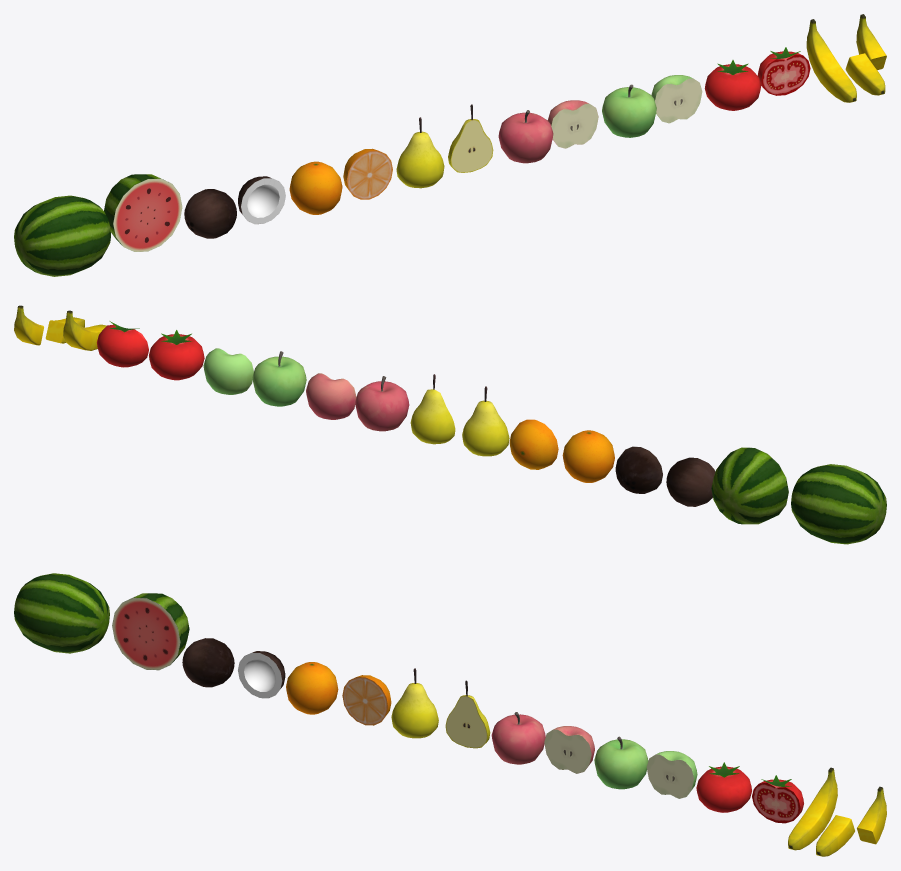
The model's file is Fruits.glb.
3 renders of one model, top to bottom at view 1: azimuth 30°, elevation 25°; view 2: azimuth 150°, elevation 25°; view 3: azimuth 330°, elevation 25°, orthographic.
Parts seen in each view (by area): view 1: Watermelon, WatermelonSlice, RedApple, GreenApple, Orange, Tomato, Coconut, Pear, OrangeSlice, GreenAppleSlice, RedAppleSlice, TomatoSlice (+5 smaller); view 2: Watermelon, WatermelonSlice, RedApple, GreenApple, Orange, Tomato, Pear, OrangeSlice, Coconut, RedAppleSlice, GreenAppleSlice, PearSlice (+4 smaller); view 3: Watermelon, WatermelonSlice, RedApple, GreenApple, Orange, Tomato, Coconut, Pear, OrangeSlice, GreenAppleSlice, RedAppleSlice, TomatoSlice (+5 smaller).
Boxes of the visible parts, box(x1,y1,x2,y2) form: Watermelon: box(14, 195, 110, 276); WatermelonSlice: box(104, 174, 182, 251); RedApple: box(498, 110, 553, 163); GreenApple: box(602, 84, 656, 137); Orange: box(289, 161, 342, 214); Tomato: box(704, 60, 761, 110); Coconut: box(184, 189, 236, 238); Pear: box(396, 117, 444, 188); OrangeSlice: box(343, 148, 392, 199); GreenAppleSlice: box(651, 75, 702, 123); RedAppleSlice: box(547, 100, 598, 148); TomatoSlice: box(757, 47, 810, 95); Watermelon: box(791, 464, 886, 544); WatermelonSlice: box(711, 447, 788, 524); RedApple: box(355, 376, 409, 431); GreenApple: box(252, 351, 306, 406); Orange: box(562, 430, 614, 482); Tomato: box(149, 330, 204, 380); Pear: box(462, 386, 509, 456); OrangeSlice: box(509, 419, 558, 469); Coconut: box(666, 457, 715, 506); RedAppleSlice: box(306, 373, 356, 419); GreenAppleSlice: box(203, 348, 253, 394); PearSlice: box(410, 374, 455, 444); Watermelon: box(14, 573, 109, 653); WatermelonSlice: box(112, 593, 189, 670); RedApple: box(491, 712, 545, 764); GreenApple: box(594, 736, 648, 789); Orange: box(286, 662, 338, 714); Tomato: box(696, 762, 751, 812); Coconut: box(182, 638, 234, 687); Pear: box(391, 668, 438, 738); OrangeSlice: box(342, 675, 391, 725); GreenAppleSlice: box(646, 751, 697, 798); RedAppleSlice: box(544, 726, 594, 773); TomatoSlice: box(752, 775, 803, 823).
Bounding box in the file's own units: 23.4 × 1.92 × 2.45.
15 materials, 15 textured.
